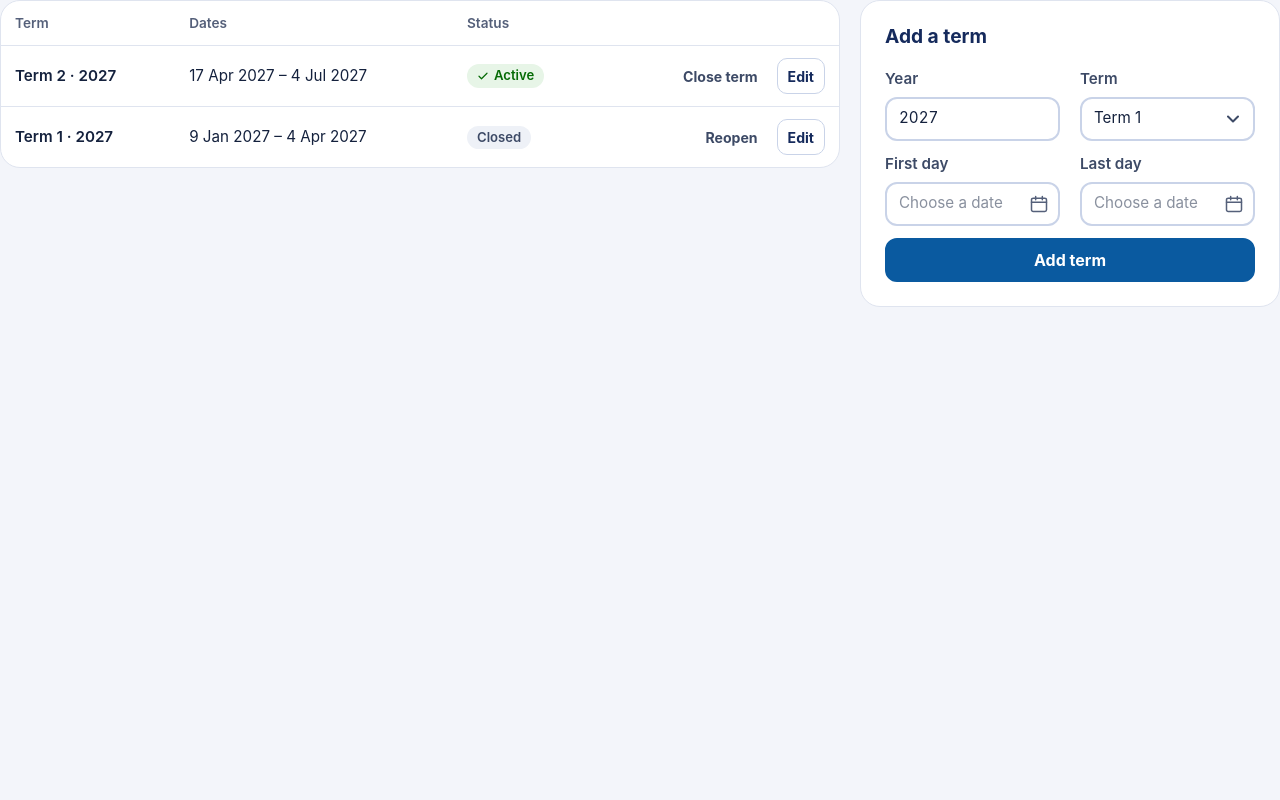
Test: editing a term › opens with the saved values and saves them for that term
This screenshot has width=1280, height=800.
What coordinates should you click on to do the following:
click the button with aria-label "Edit Term 2 · 2027"
I would click on:
 (801, 76)
Its box is [777,58,825,94].
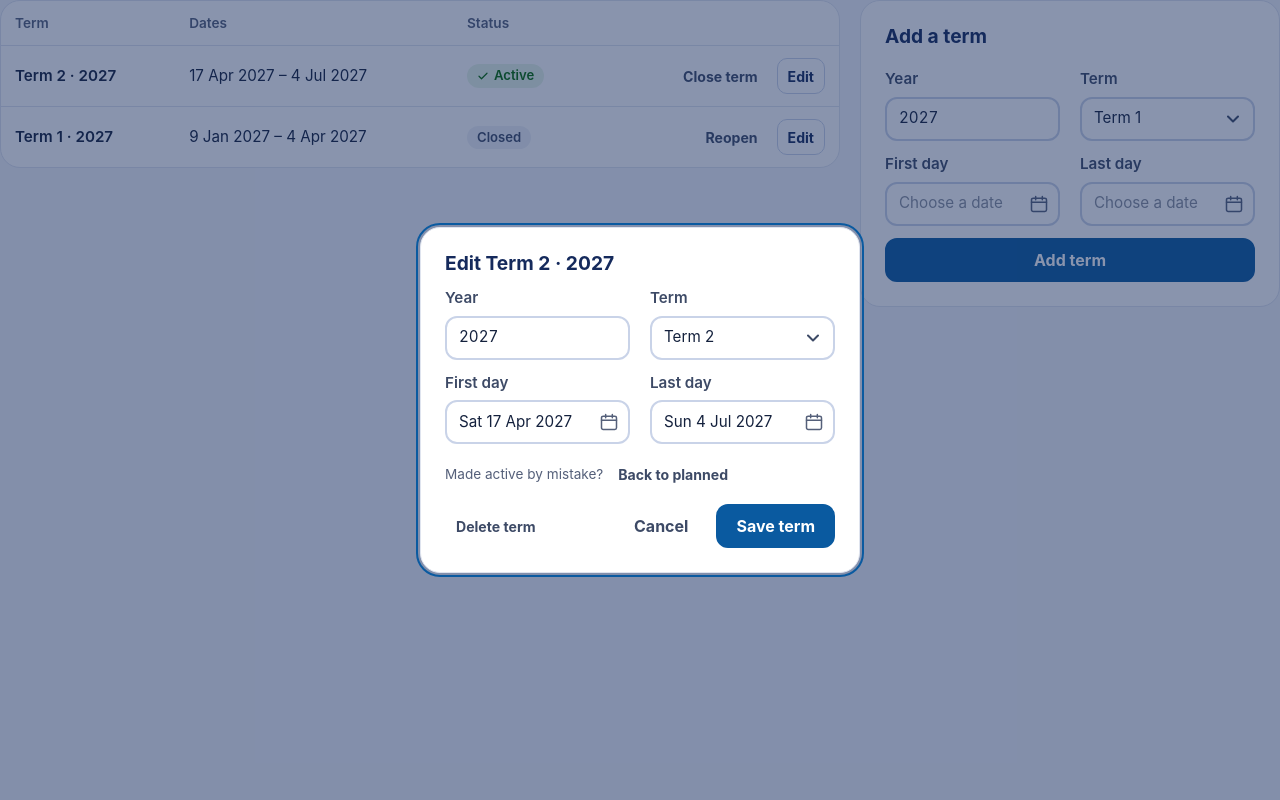
Now the number field labelled "Year" holds "2027", box [445,316,630,360]
Now the dropdown labelled "Term" holds "2", box [650,316,835,360]
Now the element named "startDate" holds "2027-04-17", box [445,372,630,444]
What coordinates should you click on to do the following:
click the button "Save term"
I would click on:
 (776, 526)
Its box is [716,504,835,548].
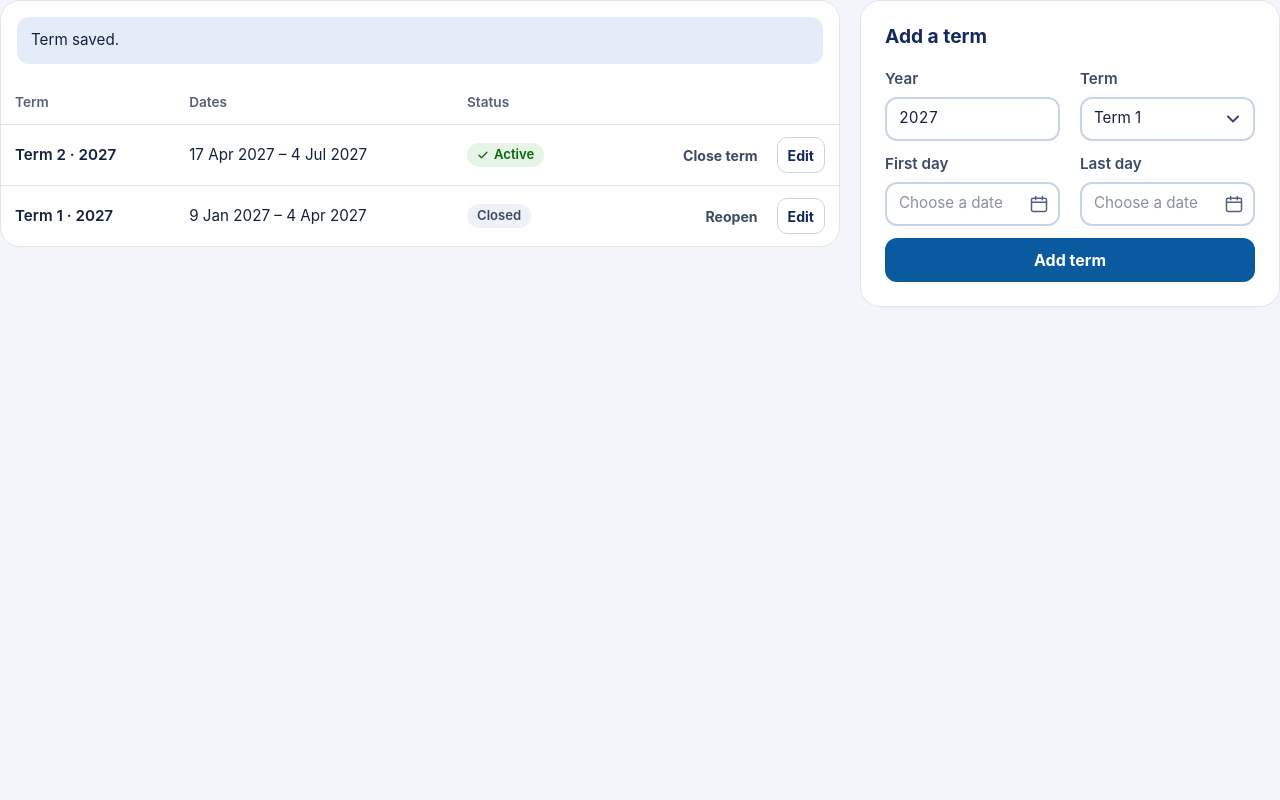
Now the message reads "Term saved.", box [31,30,119,49]
Now the dialog is gone
